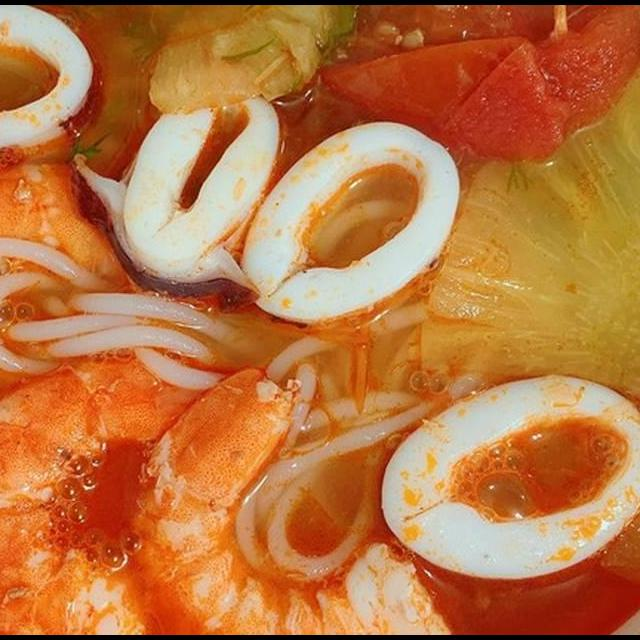bun: (0, 228, 499, 590)
bun hai san: (0, 32, 640, 635)
muc: (373, 369, 640, 592), (68, 67, 288, 319), (234, 114, 466, 330), (0, 6, 99, 174)
tom: (119, 355, 465, 635), (0, 348, 284, 635), (0, 149, 146, 462)
